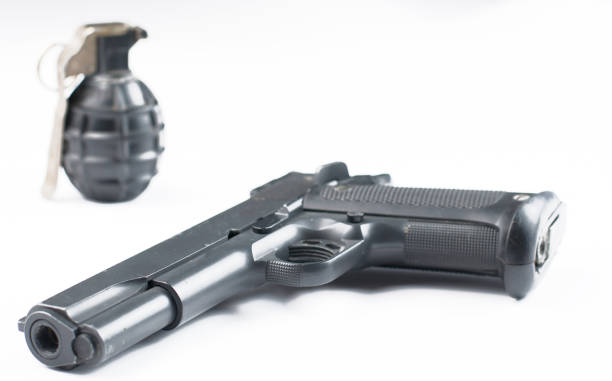e1: (32, 17, 164, 200)
